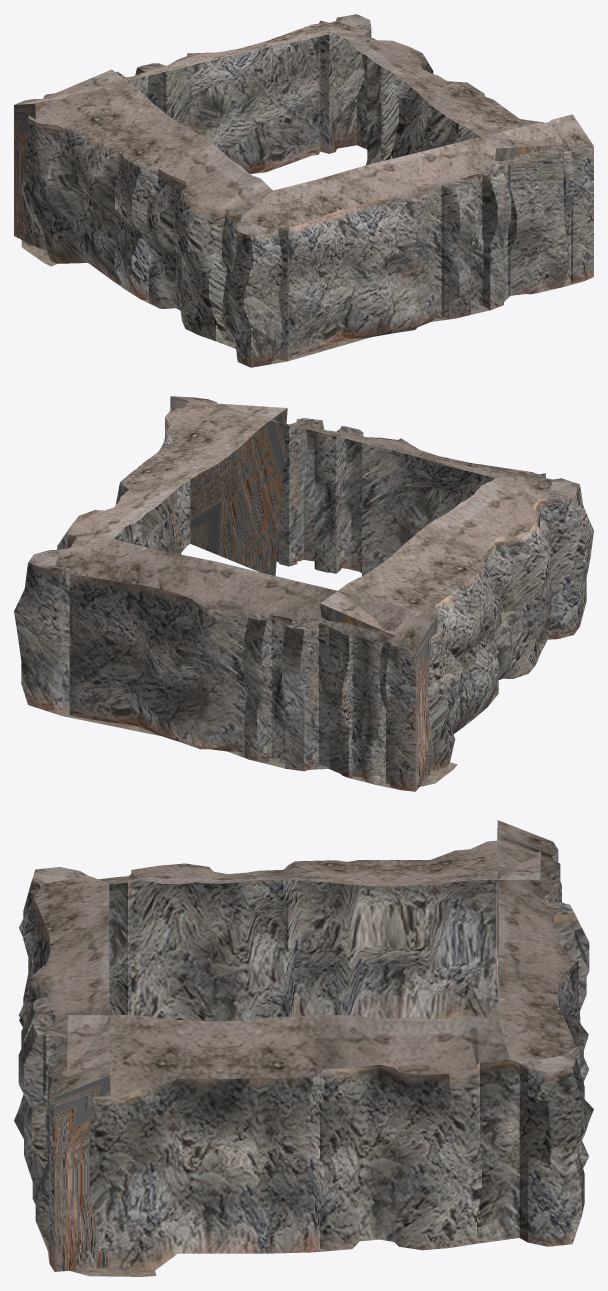
File: Canyon0.FBX
The picture shows the model from 3 angles, top to bottom: view 1: azimuth 30°, elevation 25°; view 2: azimuth 150°, elevation 25°; view 3: azimuth 270°, elevation 25°; orthographic projection. The views are drawn at different scales.
Parts seen in each view (by area): view 1: right; view 2: right; view 3: right.
Boxes of the visible parts, x1,y1,x2,y2 form: right: (14,14,593,367); right: (14,396,593,791); right: (14,820,593,1276).
Bounding box in the file's own units: 1205 × 416 × 1092.
